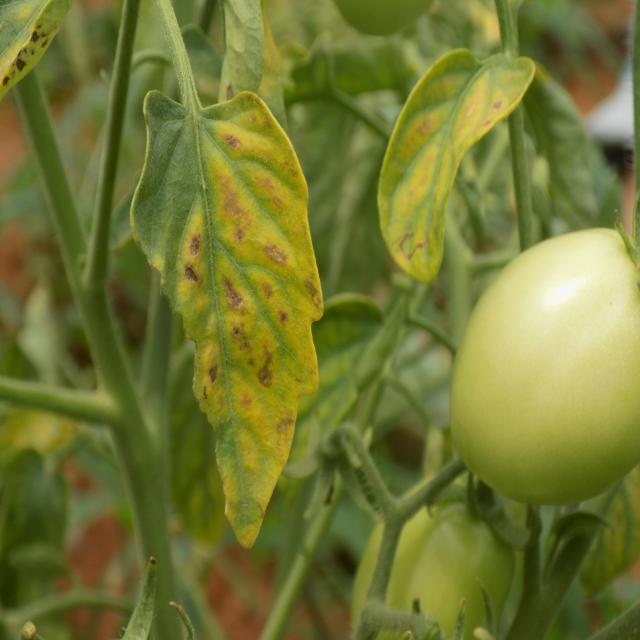tomato_early blight: (130, 92, 319, 558)
